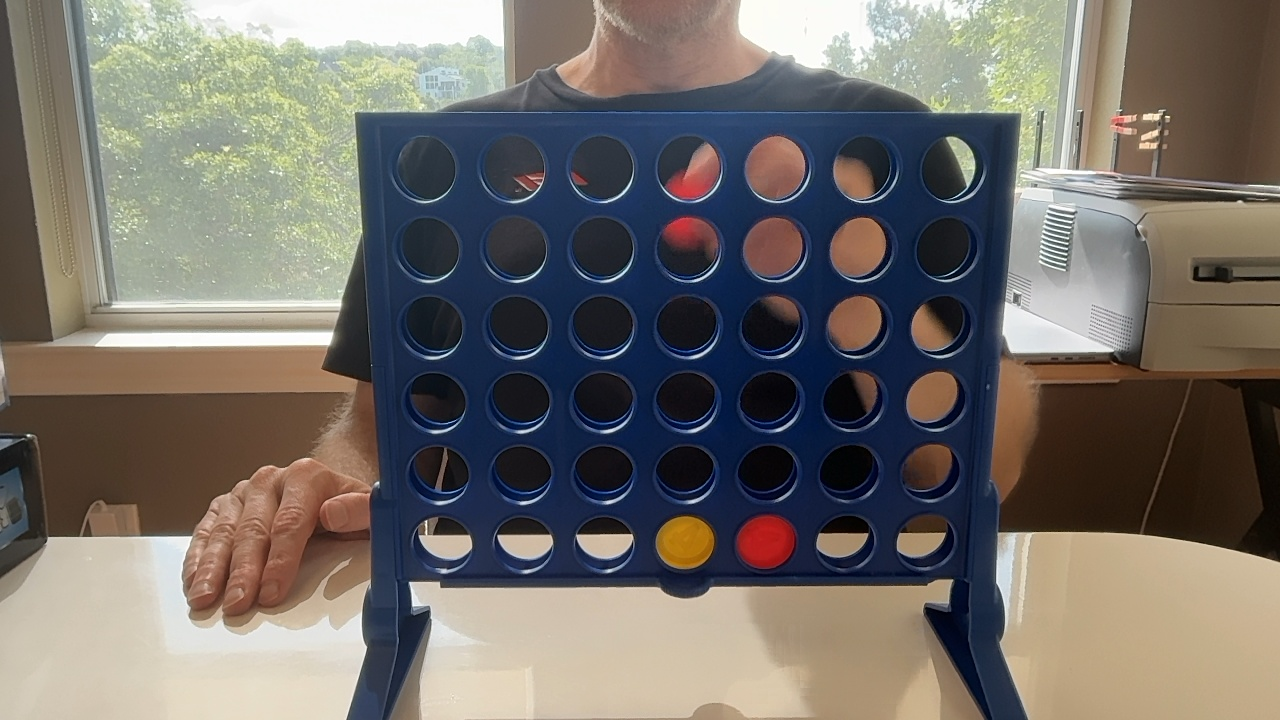red piece: (736, 515, 795, 570)
yellow piece: (656, 516, 715, 569)
